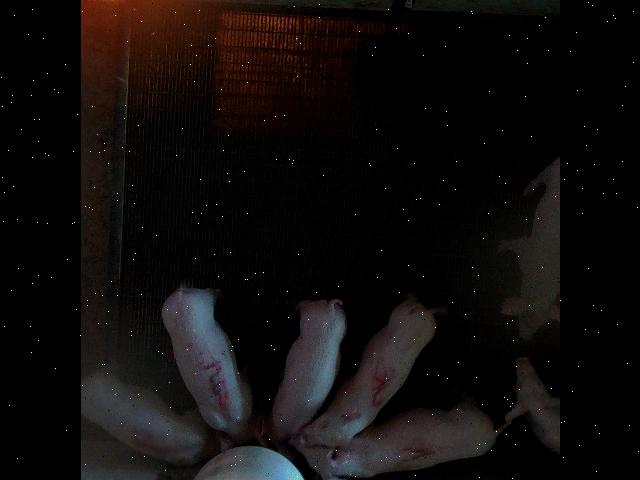pig-1: (291, 389, 505, 480)
pig-3: (161, 285, 254, 450)
pig-4: (81, 372, 220, 465)
pig-5: (299, 294, 444, 446)
